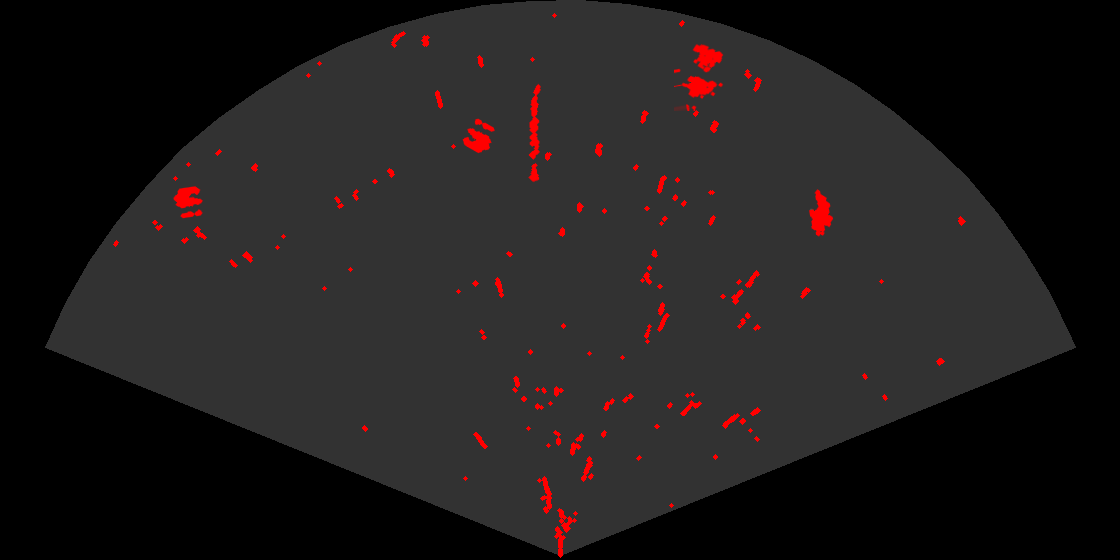AUV: (808, 188, 835, 238)
ball: (461, 117, 496, 155), (172, 185, 204, 220)
cage: (674, 42, 725, 111)
chain: (527, 83, 542, 183)
